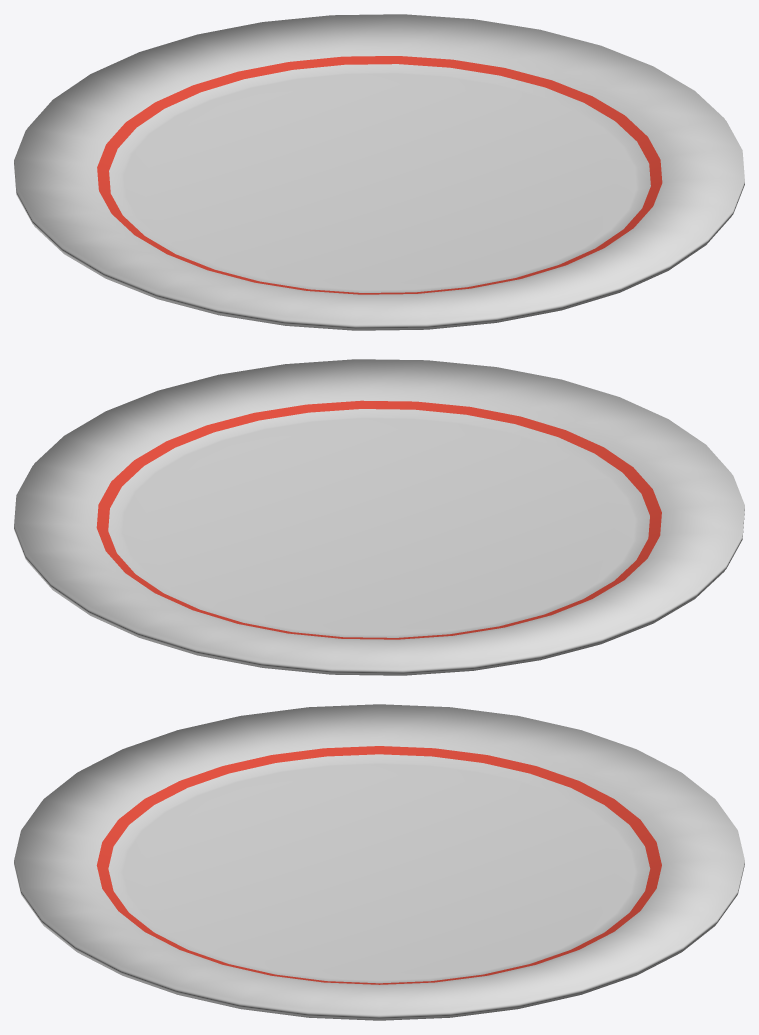
File: plate.fbx
The picture shows the model from 3 angles, top to bottom: view 1: azimuth 30°, elevation 25°; view 2: azimuth 150°, elevation 25°; view 3: azimuth 270°, elevation 25°; orthographic projection.
Visible parts, largest first — view 1: Cylinder; view 2: Cylinder; view 3: Cylinder.
Part boxes in pixels (<box>): Cylinder: <box>14,14,744,330</box>; Cylinder: <box>14,359,744,675</box>; Cylinder: <box>14,704,744,1020</box>.
Bounding box in the file's own units: 282 × 14.17 × 282.
